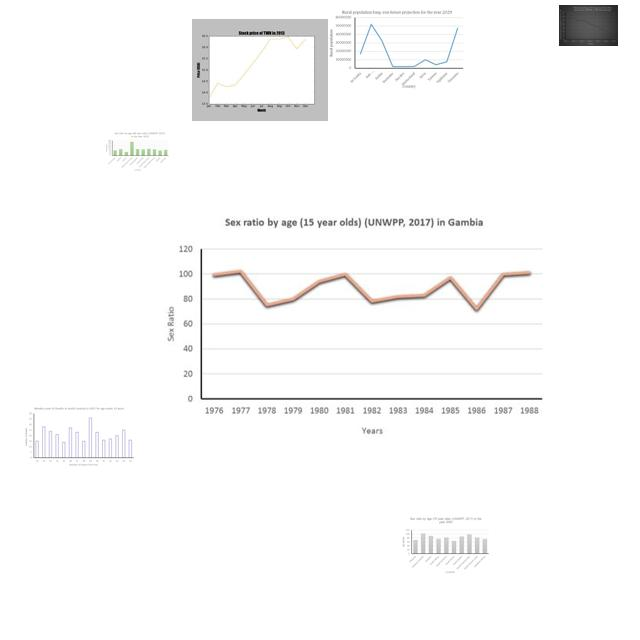Graph: (158, 210, 551, 438), (192, 19, 328, 121), (328, 8, 466, 89), (22, 405, 136, 469), (400, 516, 491, 575), (104, 131, 170, 172), (559, 5, 618, 46)
